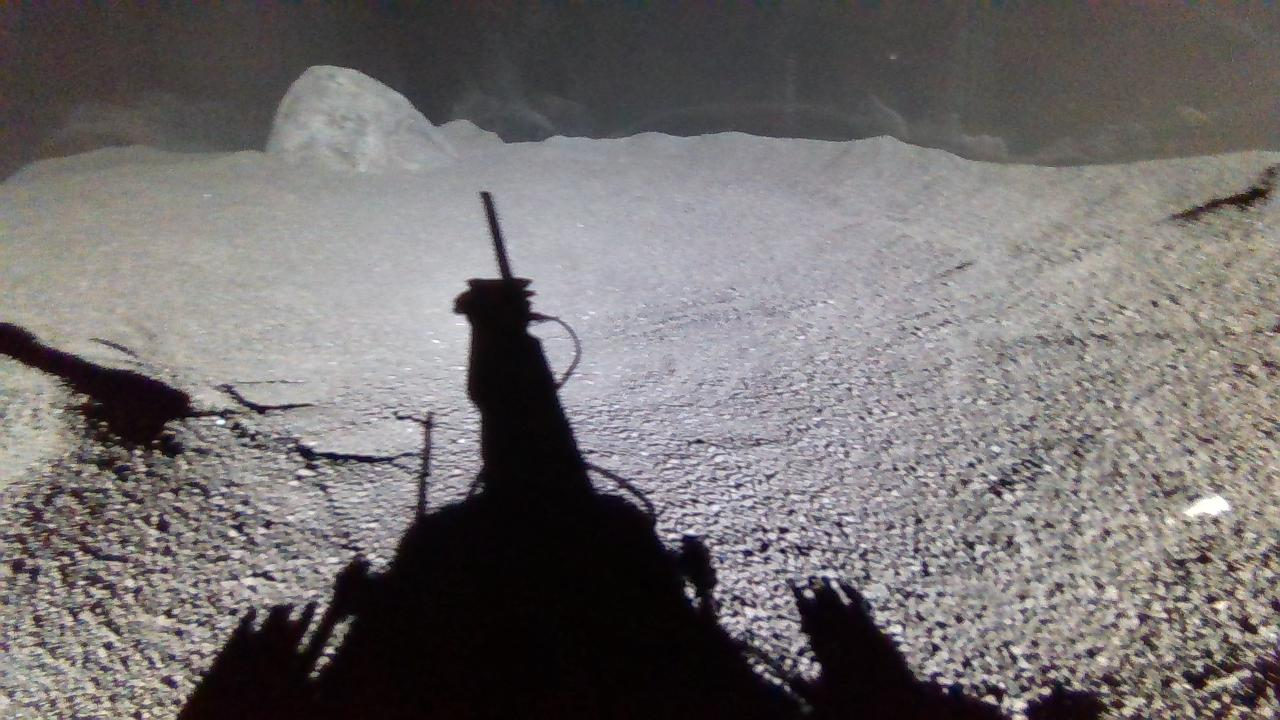rock: (266, 64, 456, 172)
